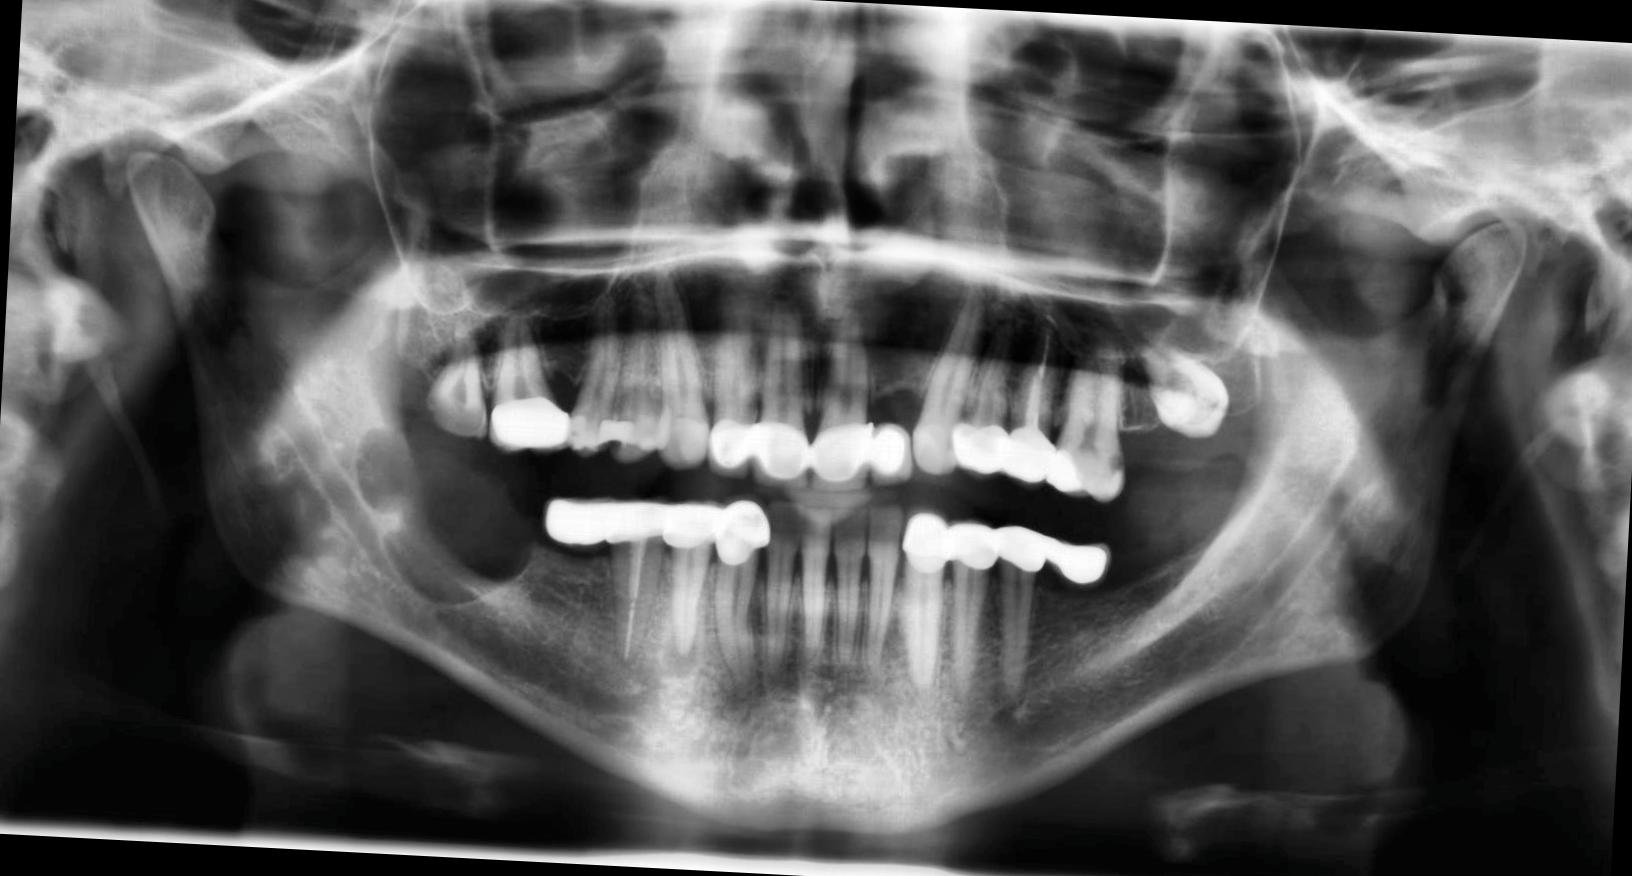keratokist: (349, 423, 540, 611)
radikuler: (658, 632, 705, 689)
